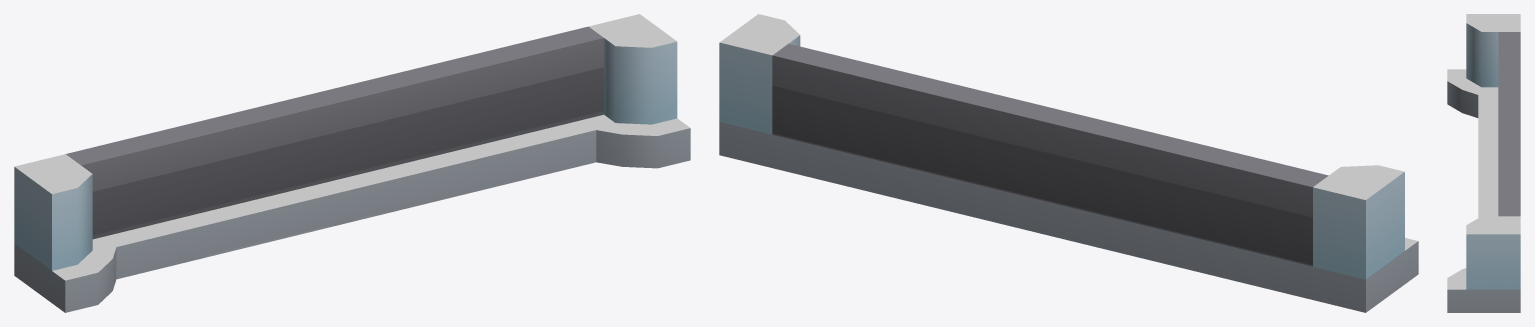
The model's file is parkinghouse_segment1_top.fbx.
3 views of the same model, side by side, from view 1: azimuth 30°, elevation 25°; view 2: azimuth 150°, elevation 25°; view 3: azimuth 270°, elevation 25° (orthographic). The views are drawn at different scales.
Visible parts, largest first — view 1: parkinghouse_segment1_top; view 2: parkinghouse_segment1_top; view 3: parkinghouse_segment1_top.
Part boxes in pixels (x1,y1,x2,y2): parkinghouse_segment1_top: [14, 14, 690, 312]; parkinghouse_segment1_top: [719, 14, 1418, 312]; parkinghouse_segment1_top: [1447, 14, 1520, 312].
Size of the model in its own units: 12 by 2 by 1.69.
